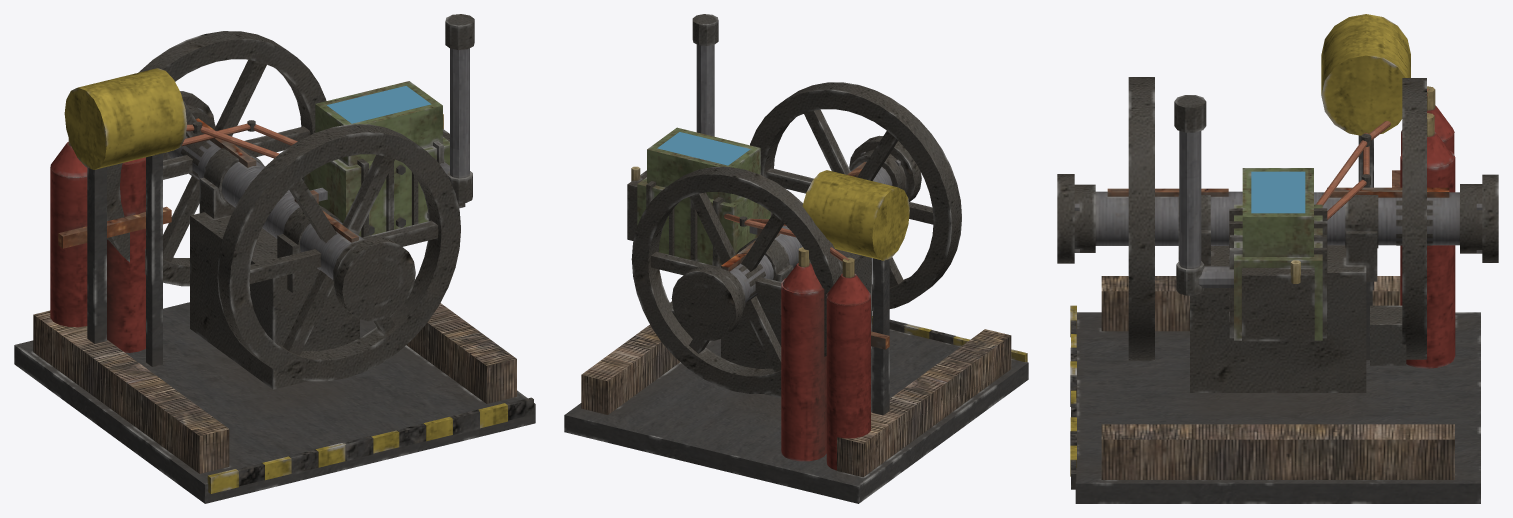
File: feGasMotor_HD.fbx
3 views of the same model, side by side, from view 1: azimuth 30°, elevation 25°; view 2: azimuth 150°, elevation 25°; view 3: azimuth 270°, elevation 25° (orthographic). The views are drawn at different scales.
Visible parts, largest first — view 1: feGasMotor_Base, FeSpin_EngineCrank, feGasMotor_Bottles; view 2: feGasMotor_Base, FeSpin_EngineCrank, feGasMotor_Bottles; view 3: feGasMotor_Base, FeSpin_EngineCrank, feGasMotor_Bottles.
Boxes of the visible parts, x1,y1,x2,y2 form: feGasMotor_Base: (14,14,535,503); FeSpin_EngineCrank: (107,31,460,381); feGasMotor_Bottles: (50,121,279,352); feGasMotor_Base: (564,14,1028,503); FeSpin_EngineCrank: (631,82,961,393); feGasMotor_Bottles: (748,218,889,470); feGasMotor_Base: (1070,14,1480,503); FeSpin_EngineCrank: (1057,77,1498,360); feGasMotor_Bottles: (1316,86,1455,368).
Bounding box in the file's own units: 0.951 × 0.9836 × 1.
2 materials, 1 textured.
